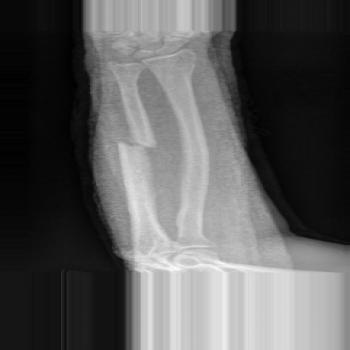Fracture: (113, 129, 164, 154)
